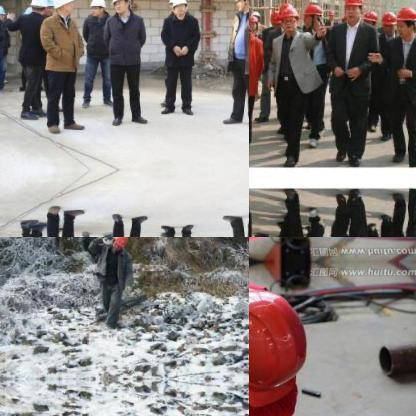Helmet: (249, 283, 314, 416), (393, 3, 415, 37), (300, 0, 323, 28), (276, 2, 298, 30), (338, 0, 364, 22), (380, 8, 396, 34), (166, 0, 189, 17), (51, 0, 73, 17), (88, 0, 107, 18), (109, 0, 131, 15), (362, 6, 376, 28), (266, 7, 280, 29), (27, 0, 46, 14), (249, 11, 260, 34), (110, 237, 128, 250), (233, 0, 248, 13), (0, 1, 7, 22), (43, 0, 53, 14)
